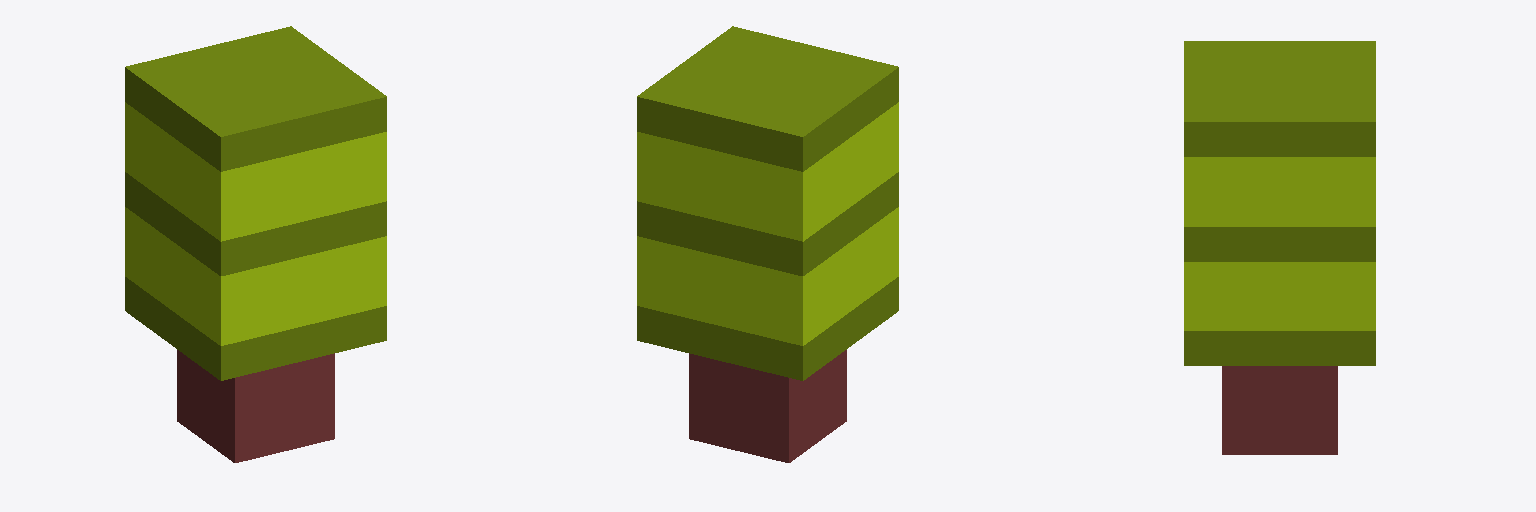
The picture shows the model from 3 angles: view 1: azimuth 30°, elevation 25°; view 2: azimuth 150°, elevation 25°; view 3: azimuth 270°, elevation 25°; orthographic projection.
Visible parts, largest first — view 1: 2BlocksTree; view 2: 2BlocksTree; view 3: 2BlocksTree.
Part boxes in pixels (bbox=[...]): 2BlocksTree: bbox=[125, 26, 386, 462]; 2BlocksTree: bbox=[637, 26, 898, 462]; 2BlocksTree: bbox=[1184, 41, 1375, 454].
Size of the model in its own units: 0.5 by 1 by 0.5.
1 materials, 1 textured.